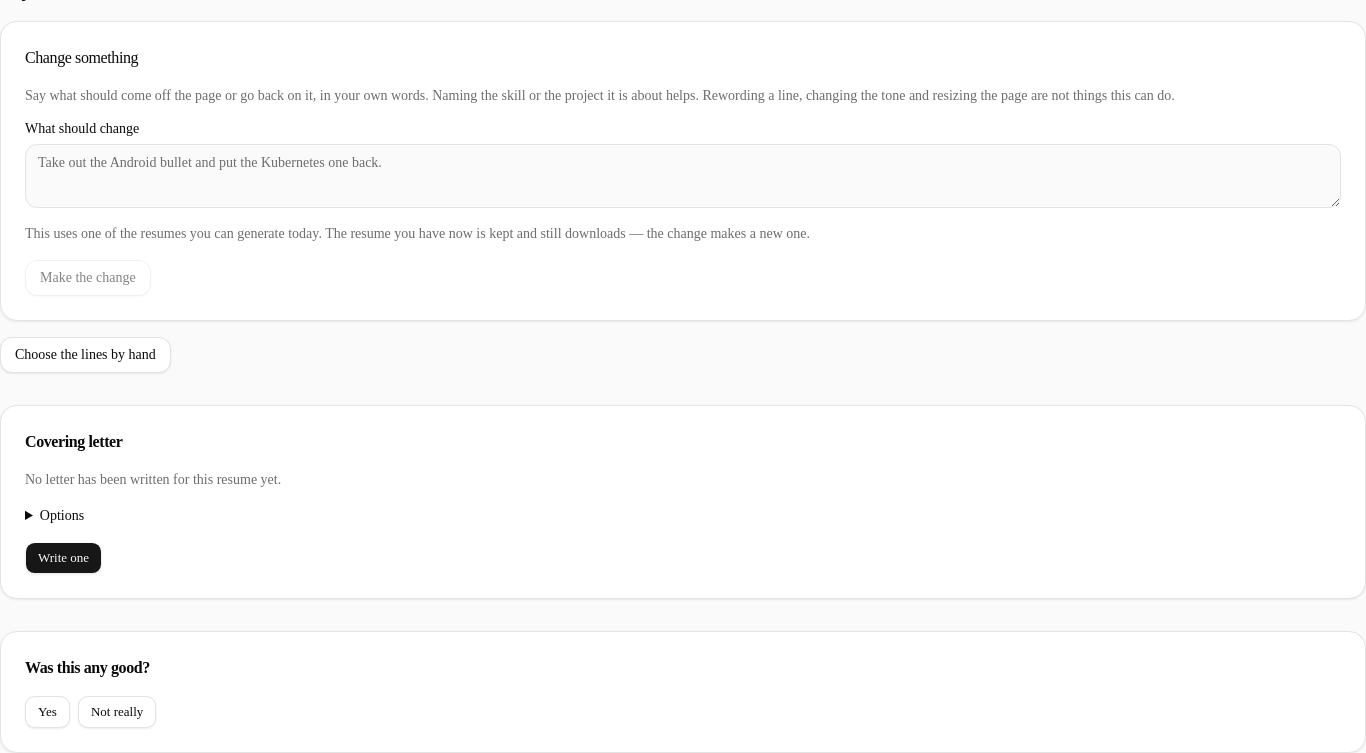
Test: the covering letter › names the wait from the header the endpoint does send
(page scrolled)
Click the button "Write one" at [64, 558], box [25,542,102,574]
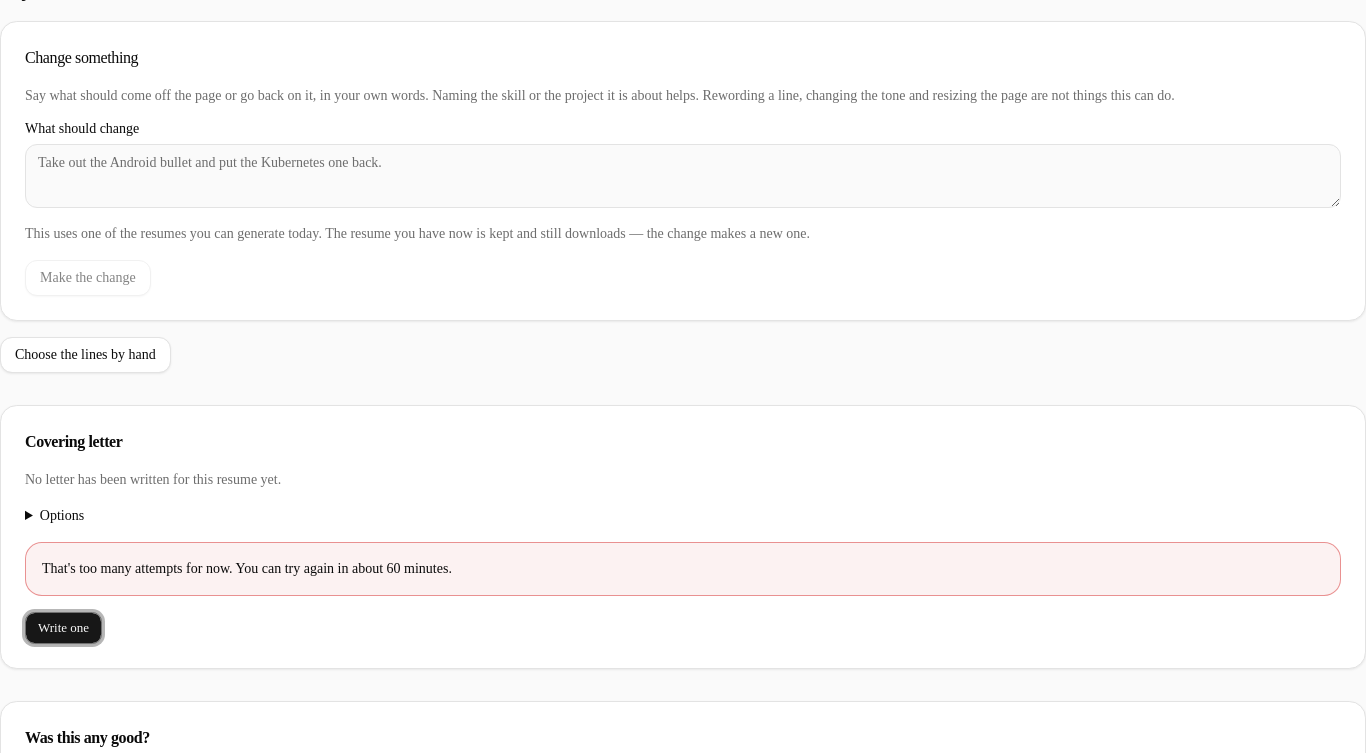
Expected: the message shows "too many attempts", [42,561,452,576]
Expected: the message shows "about 60 minutes", [42,561,452,576]
